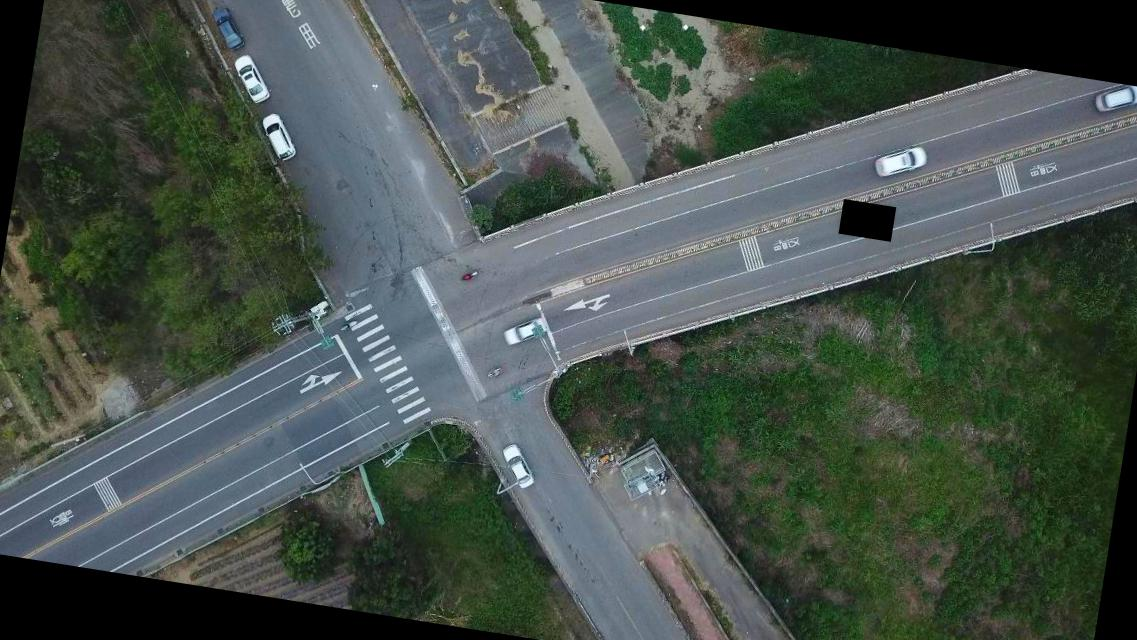vehicle: (872, 139, 930, 183), (228, 51, 274, 104), (256, 111, 300, 164), (204, 2, 249, 52), (495, 441, 538, 490), (500, 312, 548, 350), (1093, 79, 1136, 119)
